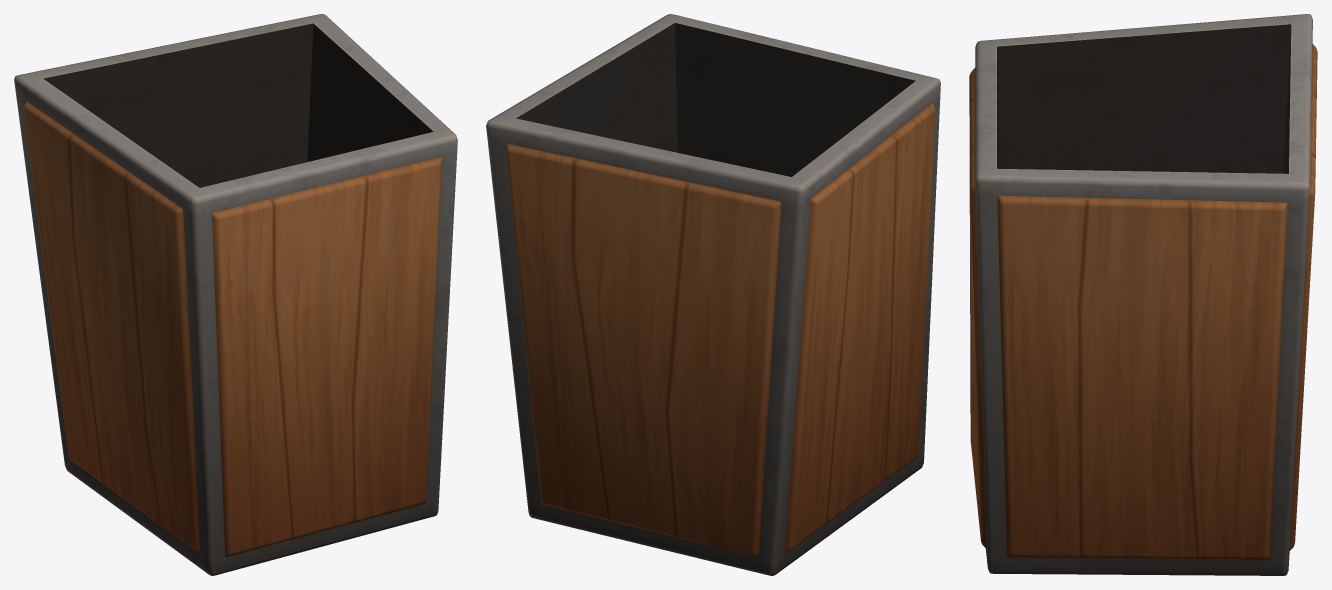
File: ParkUrn01_2.FBX
3 views of the same model, side by side, from view 1: azimuth 30°, elevation 25°; view 2: azimuth 150°, elevation 25°; view 3: azimuth 270°, elevation 25° (orthographic). The views are drawn at different scales.
Parts seen in each view (by area): view 1: ParkUrn01_2; view 2: ParkUrn01_2; view 3: ParkUrn01_2.
Boxes of the visible parts, <box> form: ParkUrn01_2: <box>14,14,457,575</box>; ParkUrn01_2: <box>486,14,940,575</box>; ParkUrn01_2: <box>969,14,1317,575</box>.
Size of what is drawn, in the model's own units: 0.69 by 0.8308 by 0.6227.
